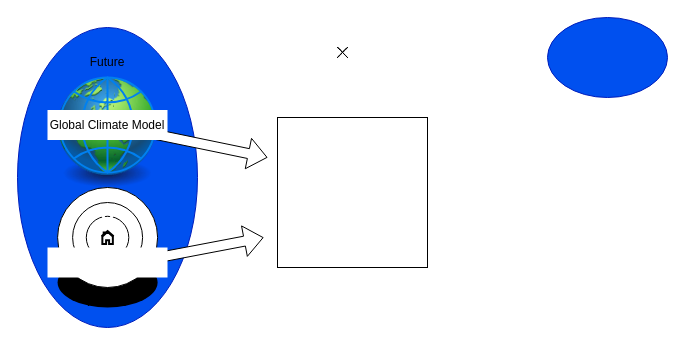
Some shapes in this 685 by 345 pixel diagram are drawn without their labels. Each missing label, with the box of its shape:
Local Weather Data: (47, 247, 167, 277)
OUTPUT: (546, 16, 668, 98)
